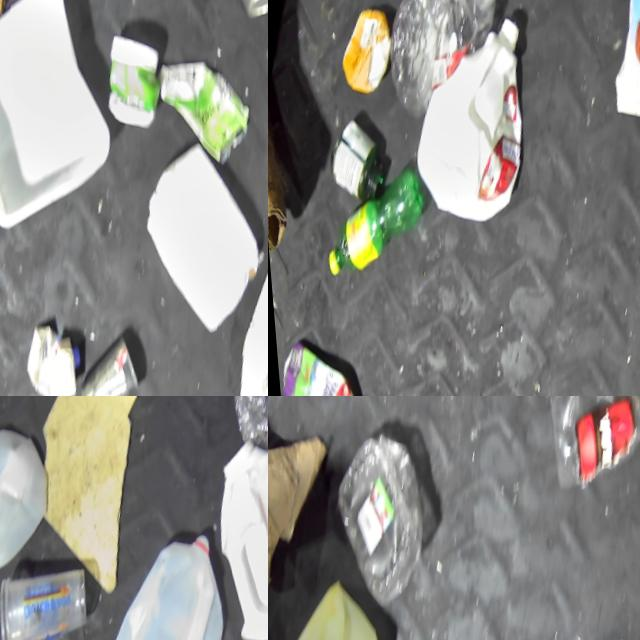can: (59, 313, 152, 396)
milk_jug: (387, 0, 545, 235), (73, 509, 242, 640), (179, 421, 268, 640), (0, 400, 64, 597), (268, 563, 387, 640)
non_white_jug: (268, 339, 375, 396)
plastic_bottle: (365, 0, 508, 128)
